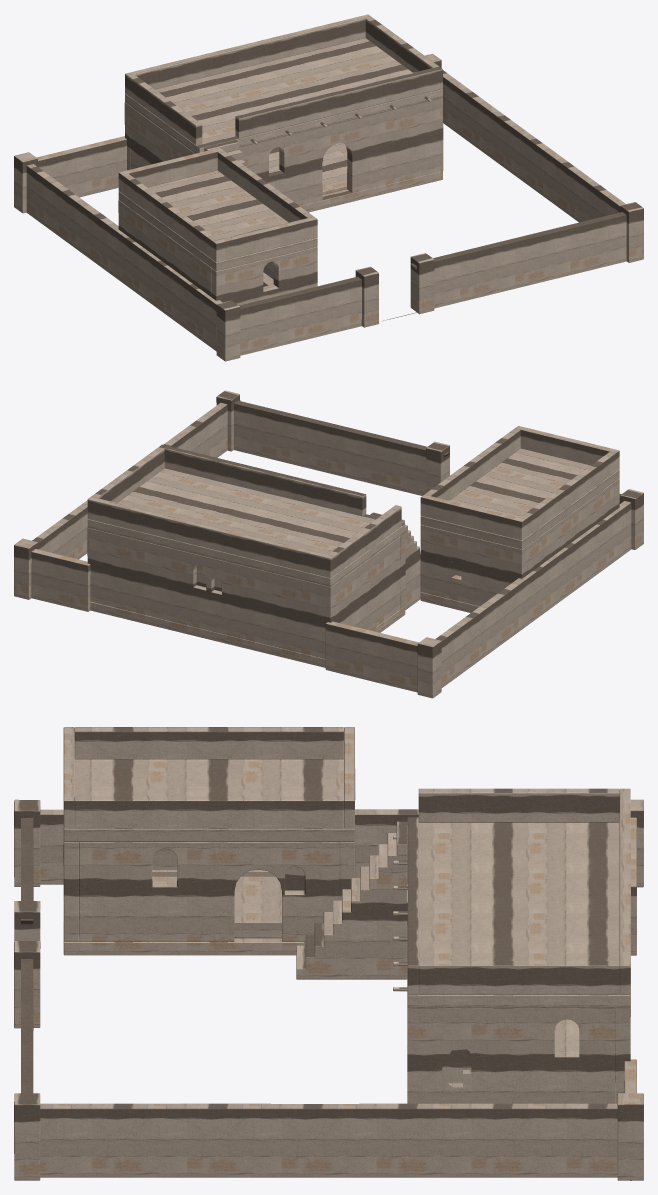
Rendered from court_3.glb.
The picture shows the model from 3 angles, top to bottom: view 1: azimuth 30°, elevation 25°; view 2: azimuth 150°, elevation 25°; view 3: azimuth 270°, elevation 25°; orthographic projection. The views are drawn at different scales.
Visible parts, largest first — view 1: court; view 2: court; view 3: court.
Part boxes in pixels (x1,y1,x2,y2): court: (14,14,643,361); court: (14,390,643,698); court: (14,727,643,1180).
Bounding box in the file's own units: 19.76 × 5.01 × 17.26.
1 material, 1 textured.
